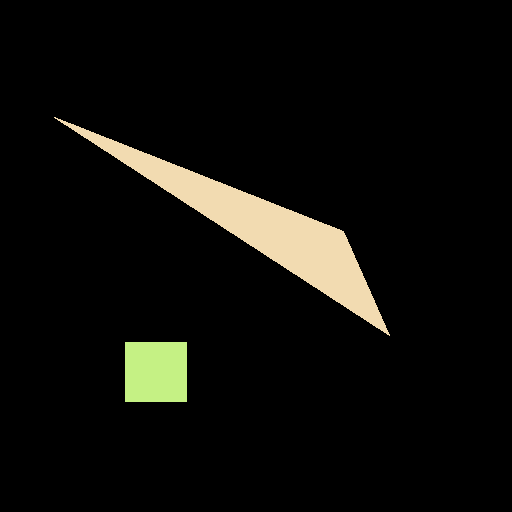square: (125, 342, 186, 401)
triangle: (54, 117, 389, 335)
